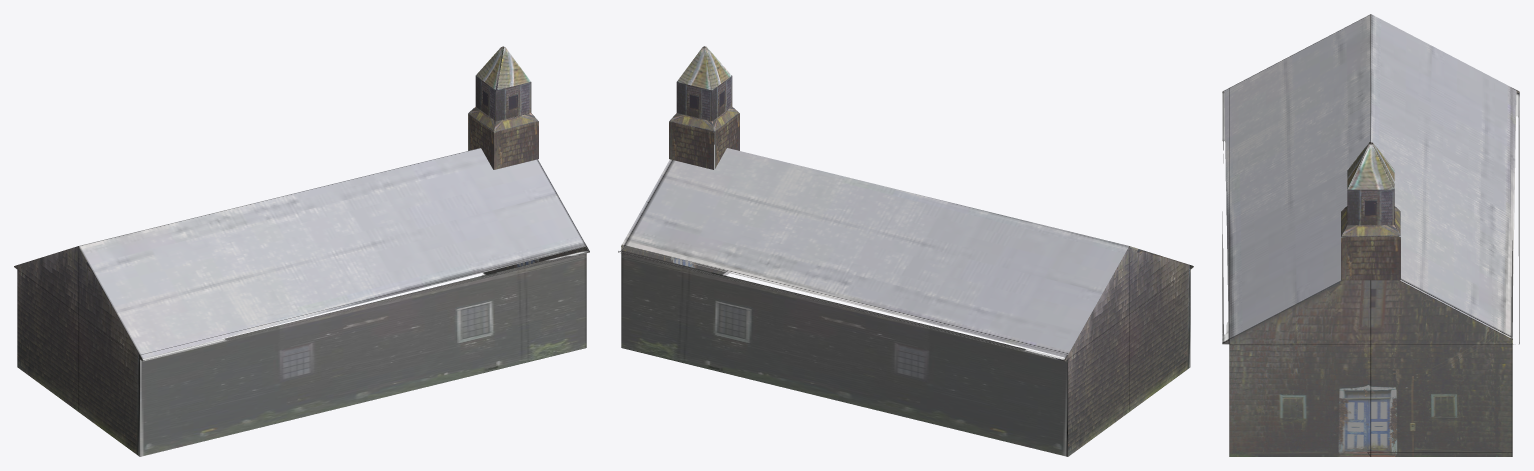
The model's file is palqui.obj.
The picture shows the model from 3 angles, left to right: view 1: azimuth 30°, elevation 25°; view 2: azimuth 150°, elevation 25°; view 3: azimuth 270°, elevation 25°; orthographic projection. The views are drawn at different scales.
Parts seen in each view (by area): view 1: Cube, Cube.001; view 2: Cube, Cube.001; view 3: Cube, Cube.001.
Part boxes in pixels (x1=…): Cube: x1=14, y1=148, x2=589, y2=456; Cube.001: x1=468, y1=46, x2=538, y2=169; Cube: x1=618, y1=144, x2=1193, y2=456; Cube.001: x1=669, y1=46, x2=739, y2=169; Cube: x1=1222, y1=14, x2=1519, y2=456; Cube.001: x1=1341, y1=142, x2=1400, y2=280.
Size of the model in its own units: 24.83 by 15.57 by 12.39.
Materials: 3 (3 with a texture image).
